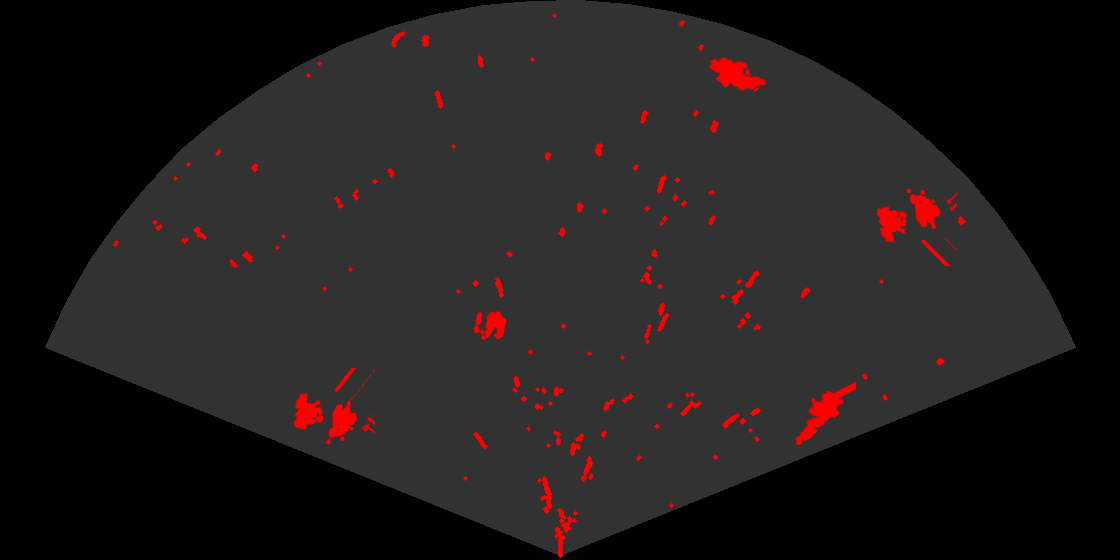AUV: (707, 55, 769, 93)
ball: (472, 310, 508, 341)
cage: (875, 187, 957, 266), (292, 368, 375, 446)
frogman: (794, 380, 856, 447)
